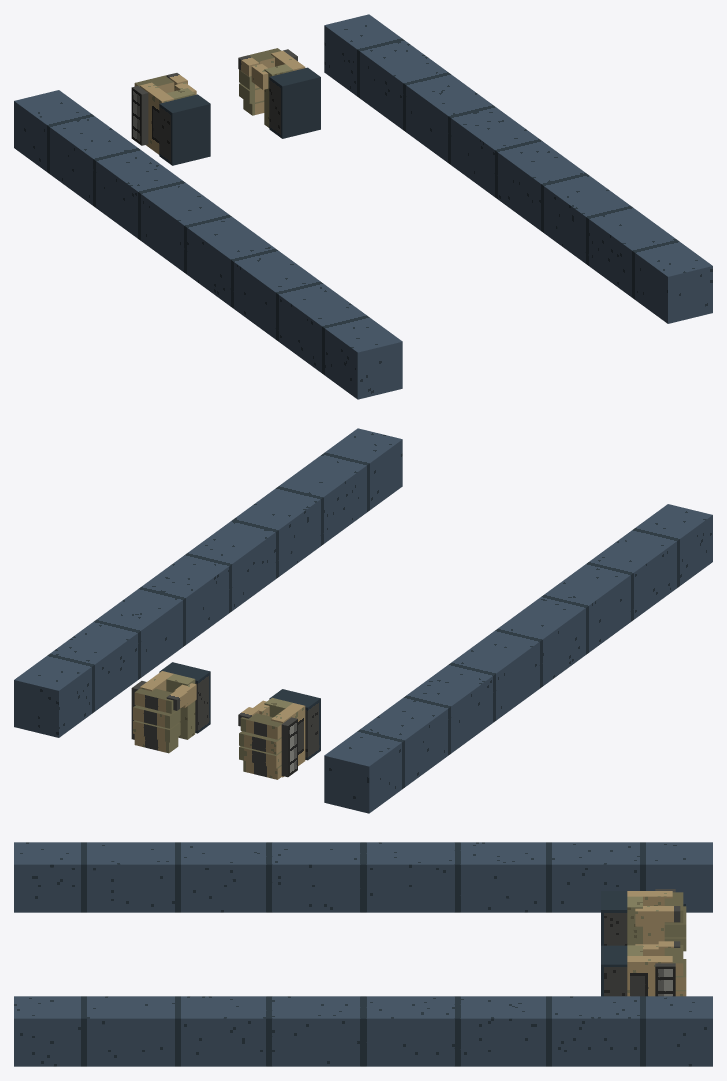
File: player_hands.glb
3 renders of one model, top to bottom at view 1: azimuth 30°, elevation 25°; view 2: azimuth 150°, elevation 25°; view 3: azimuth 270°, elevation 25°, orthographic.
Visible parts, largest first — view 1: sleeve_R, sleeve_L, cuff_L, cuff_R, knuckles_L, back_L; view 2: sleeve_R, sleeve_L, cuff_L, cuff_R, knuckles_L, palm_R, finger_index_L, back_L, finger_index_R, finger_middle_R, finger_ring_R, finger_middle_L (+1 smaller); view 3: sleeve_R, sleeve_L, cuff_L, cuff_R, back_R, back_L, knuckles_R, palm_L, thumb_base_L, finger_middle_L, thumb_tip_L, finger_index_R.
Boxes of the visible parts, bbox=[...] form: sleeve_R: bbox=[324, 14, 712, 323]; sleeve_L: bbox=[14, 90, 402, 399]; cuff_L: bbox=[159, 94, 210, 165]; cuff_R: bbox=[269, 67, 320, 138]; knuckles_L: bbox=[131, 85, 148, 145]; back_L: bbox=[140, 82, 173, 154]; sleeve_R: bbox=[14, 428, 402, 737]; sleeve_L: bbox=[324, 504, 712, 813]; cuff_L: bbox=[269, 689, 320, 760]; cuff_R: bbox=[159, 662, 210, 733]; knuckles_L: bbox=[281, 717, 297, 777]; palm_R: bbox=[166, 674, 195, 739]; finger_index_L: bbox=[240, 713, 282, 739]; back_L: bbox=[271, 703, 305, 777]; finger_index_R: bbox=[134, 688, 175, 713]; finger_middle_R: bbox=[133, 705, 180, 728]; finger_ring_R: bbox=[133, 720, 180, 742]; finger_middle_L: bbox=[239, 731, 281, 754]; sleeve_R: bbox=[14, 996, 712, 1066]; sleeve_L: bbox=[14, 842, 712, 912]; cuff_L: bbox=[601, 891, 627, 945]; cuff_R: bbox=[601, 945, 627, 996]; back_R: bbox=[627, 956, 672, 996]; back_L: bbox=[627, 891, 672, 944]; knuckles_R: bbox=[655, 963, 675, 996]; palm_L: bbox=[627, 896, 642, 945]; thumb_base_L: bbox=[635, 906, 658, 926]; finger_middle_L: bbox=[664, 906, 686, 937]; thumb_tip_L: bbox=[658, 906, 680, 922]; finger_index_R: bbox=[664, 945, 683, 975].
Size of the model in its own units: 0.5368 by 0.08 by 0.9.
Materials: 1 (1 with a texture image).
